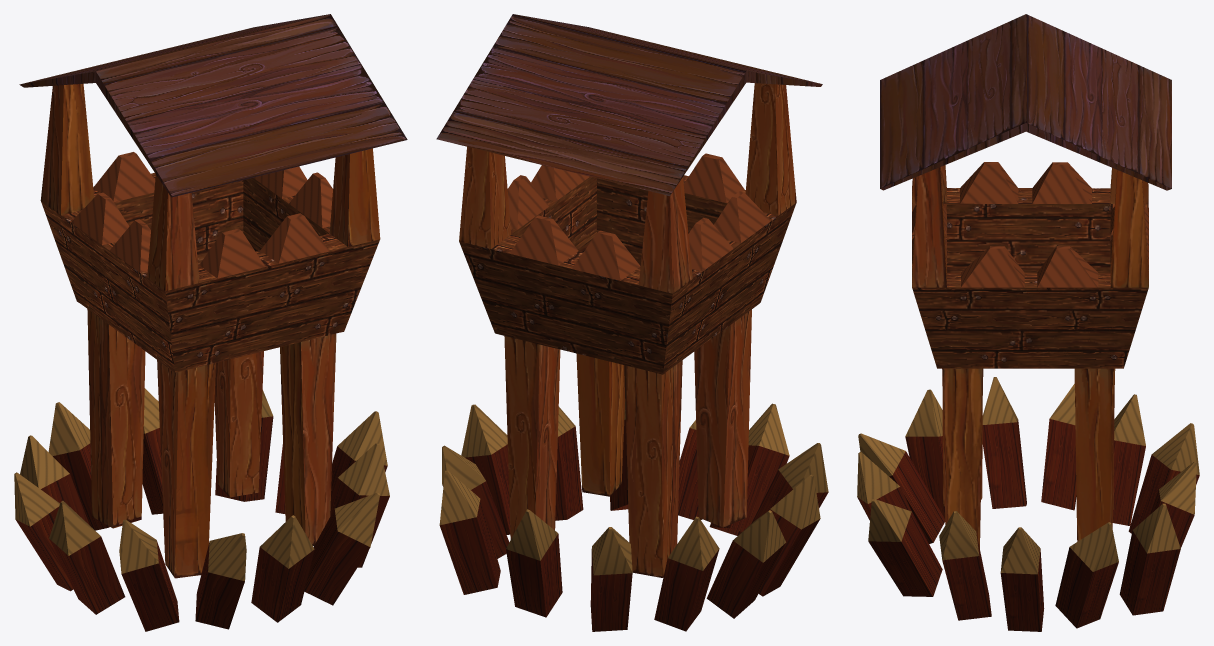
The model's file is ctower012.fbx.
The picture shows the model from 3 angles, left to right: view 1: azimuth 30°, elevation 25°; view 2: azimuth 150°, elevation 25°; view 3: azimuth 270°, elevation 25°; orthographic projection. The views are drawn at different scales.
Visible parts, largest first — view 1: Cube, Куб.013, Куб; view 2: Cube, Куб.013, Куб; view 3: Cube, Куб.013, Куб.
Part boxes in pixels (box(x1,y1,x2,y2)): Cube: box(40, 83, 380, 578); Куб.013: box(14, 388, 389, 631); Куб: box(19, 14, 407, 197); Cube: box(459, 83, 796, 577); Куб.013: box(439, 402, 828, 631); Куб: box(436, 14, 822, 195); Cube: box(912, 162, 1148, 548); Куб.013: box(857, 377, 1199, 631); Куб: box(880, 14, 1171, 190).
Bounding box in the file's own units: 315 × 477 × 294.
Materials: 3 (3 with a texture image).
